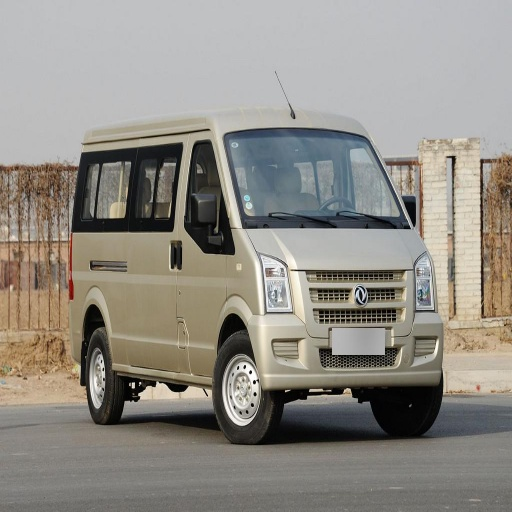back_right_door: (80, 141, 190, 365)
front_bumper: (253, 269, 444, 387)
front_right_door: (156, 139, 230, 372)
front_right_light: (262, 261, 297, 312)
hood: (263, 228, 424, 270)
trunk: (67, 253, 94, 339)
